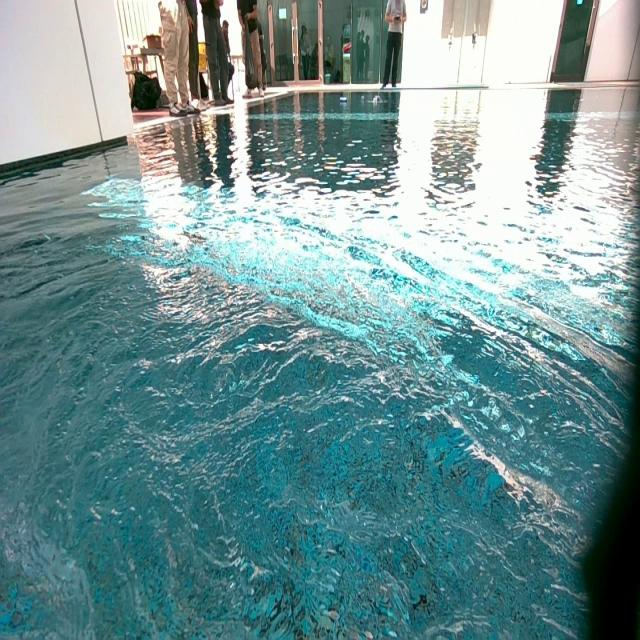Cans: (373, 95, 382, 105), (340, 98, 350, 106), (361, 95, 366, 102)
